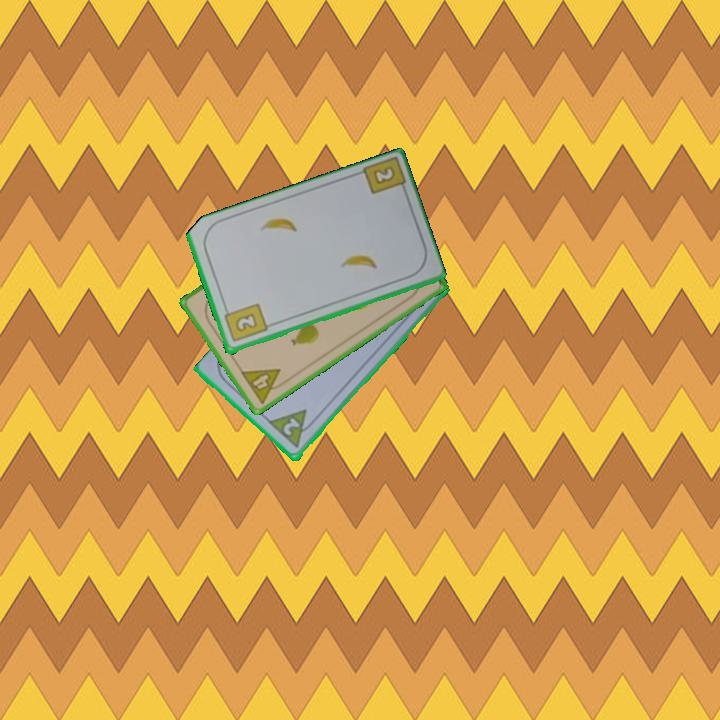2b: (221, 300, 270, 345), (369, 163, 398, 188)
2p: (279, 415, 303, 439)
4p: (237, 365, 290, 407)
